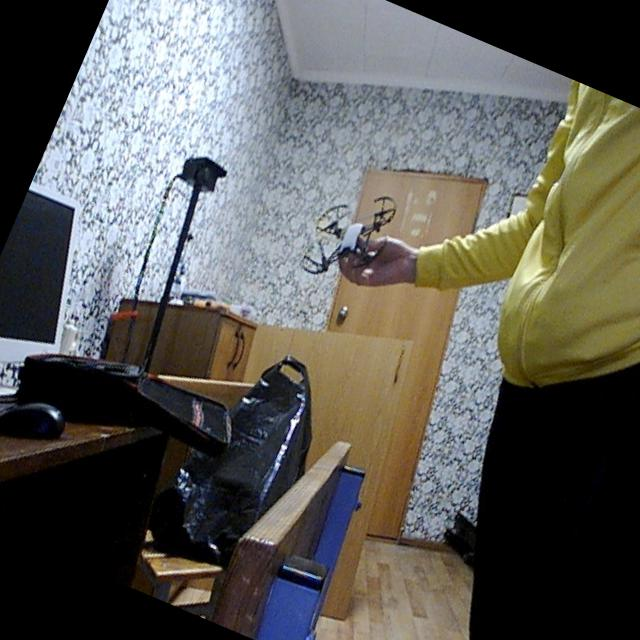drone: (290, 170, 414, 307)
